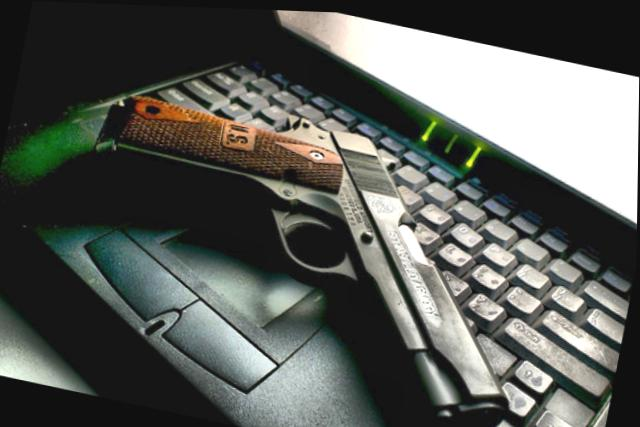pistol: (60, 80, 552, 427)
